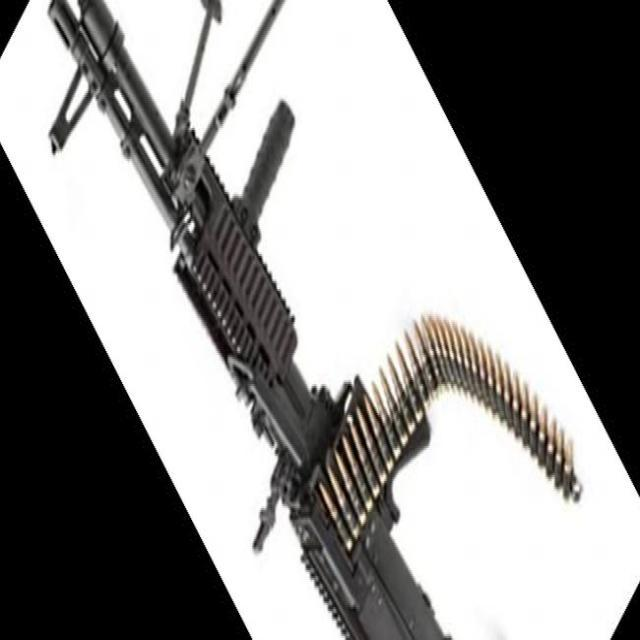weapon: (47, 0, 452, 640)
